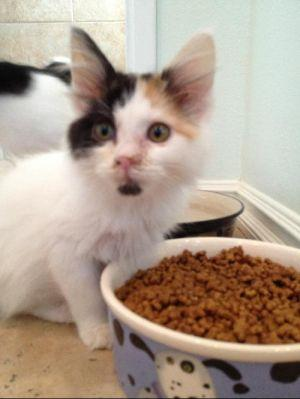ragdoll: (55, 20, 227, 211)
